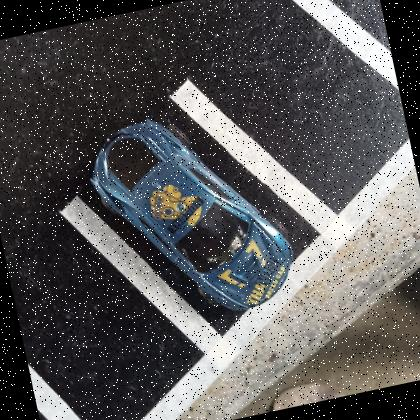Car: (90, 120, 295, 315)
